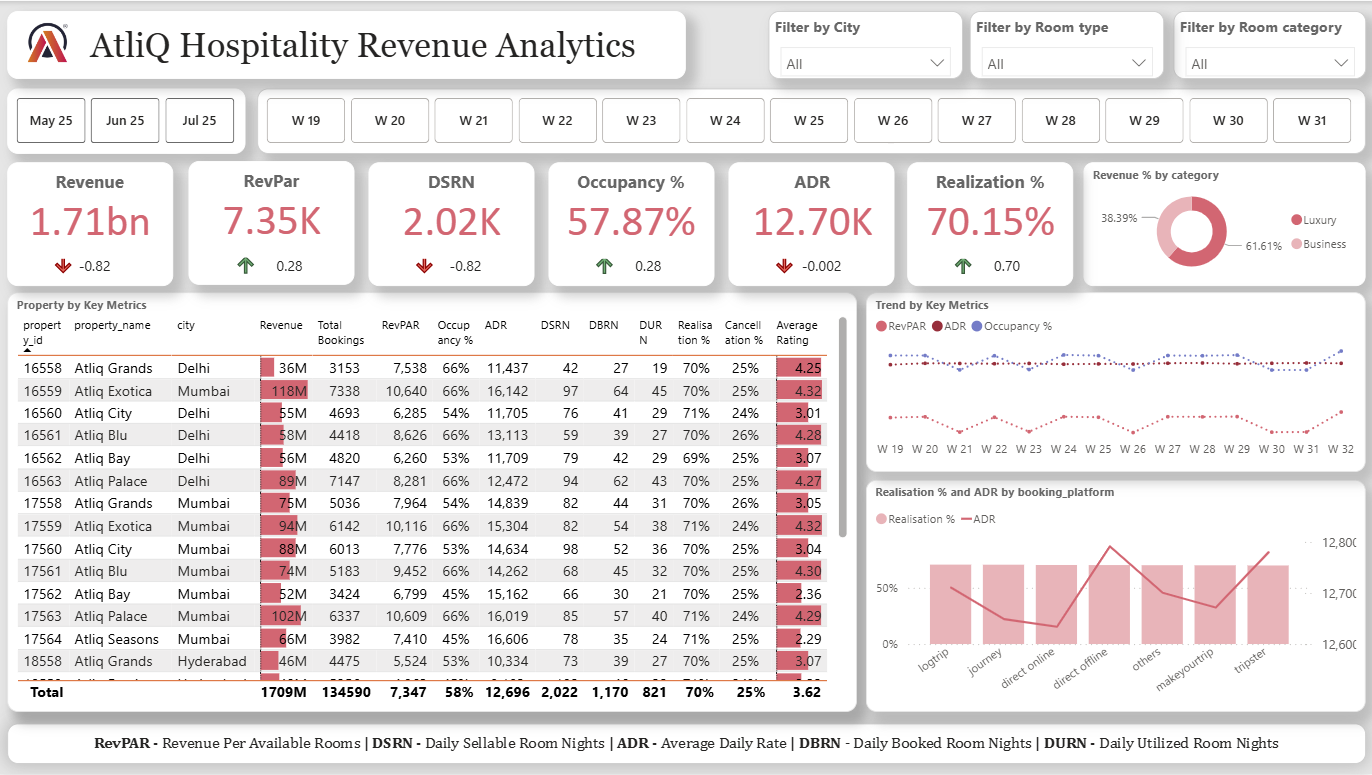

What the dashboard file says about the page in this screenshot:
{"tool":"powerbi","page":{"name":"Dashboard","canvas":[1280,720],"ordinal":0},"visuals":[{"type":"advancedSlicerVisual","fields":{"Values":["dim_date.mmm yy"]},"box":[10.7,81,221.6,60.5],"z":0},{"type":"advancedSlicerVisual","fields":{"Values":["dim_date.week no"]},"box":[243.1,81,1031,60.5],"z":1000},{"type":"slicer","title":"Filter by City","fields":{"Values":["dim_hotels.city"]},"box":[719.2,9.1,180.4,62.9],"z":2000},{"type":"slicer","title":"Filter by Room category","fields":{"Values":["fact_aggregated_bookings.room_category"]},"box":[1094.9,9.1,179.6,62.9],"z":3000},{"type":"slicer","title":"Filter by Room type","fields":{"Values":["dim_rooms.room_class"]},"box":[905.9,8.9,180.8,62.9],"z":4000},{"type":"textbox","box":[10.2,671.7,1264.1,37.4],"z":5000},{"type":"tableEx","title":"Property by Key Metrics","fields":{"Values":["dim_hotels.property_id","dim_hotels.property_name","dim_hotels.city","key_measures.Revenue","key_measures.Total Bookings","key_measures.RevPAR","key_measures.Occupancy %","key_measures.ADR","key_measures.DSRN","key_measures.DBRN","key_measures.DURN","key_measures.Realisation %"]},"box":[10.5,270.9,790.7,390.7],"z":6000},{"type":"donutChart","title":"Revenue % by category","fields":{"Category":["dim_hotels.category"],"Y":["key_measures.Revenue"]},"box":[1011.5,149.5,262.8,115.5],"z":7000},{"type":"lineClusteredColumnComboChart","fields":{"Y":["key_measures.Realisation %"],"Y2":["key_measures.ADR"],"Category":["fact_bookings.booking_platform"]},"box":[809.3,445.4,465.1,216.3],"z":8000},{"type":"lineChart","title":"Trend by Key Metrics","fields":{"Y":["key_measures.RevPAR","key_measures.ADR"],"Category":["dim_date.week no"],"Y2":["key_measures.Occupancy %"]},"box":[809.3,270.9,465.1,167.4],"z":9000},{"type":"textbox","box":[10.8,9.1,631.4,62.9],"z":10000},{"type":"image","box":[23.2,9.1,49.7,58.8],"z":11000},{"type":"textbox","box":[10.9,150,154.5,115.5],"z":12000},{"type":"tableEx","fields":{"Values":["key_measures.Revenue WoW change %"]},"box":[47.7,216.4,82.7,43.6],"z":13000},{"type":"card","title":"Revenue","fields":{"Values":["key_measures.Revenue"]},"box":[16.8,156,141.8,84.2],"z":14000},{"type":"textbox","box":[178.6,149.2,154.5,115.5],"z":15000},{"type":"tableEx","fields":{"Values":["key_measures.Revpar WoW change %"]},"box":[217.1,212.4,76.7,43.3],"z":16000},{"type":"card","title":"RevPar","fields":{"Values":["key_measures.RevPAR"]},"box":[184.4,155.1,142.7,84.2],"z":17000},{"type":"textbox","box":[347.1,150,154.5,115.5],"z":18000},{"type":"tableEx","fields":{"Values":["key_measures.DSRN WoW change %"]},"box":[383.9,216.4,82.7,43.6],"z":19000},{"type":"card","title":"DSRN","fields":{"Values":["key_measures.DSRN"]},"box":[352.8,156,142.7,84.2],"z":20000},{"type":"textbox","box":[514,150,154.5,115.5],"z":21000},{"type":"tableEx","fields":{"Values":["key_measures.Occupancy WoW change %"]},"box":[550.8,216.4,82.7,43.6],"z":22000},{"type":"card","title":"Occupancy %","fields":{"Values":["key_measures.Occupancy %"]},"box":[520.3,156,141.8,84.2],"z":23000},{"type":"textbox","box":[681.7,150,154.5,115.5],"z":24000},{"type":"tableEx","fields":{"Values":["key_measures.ADR WoW change %"]},"box":[718.5,216.4,82.7,43.6],"z":25000},{"type":"card","title":"ADR","fields":{"Values":["key_measures.ADR"]},"box":[687.9,156,141.8,84.2],"z":26000},{"type":"textbox","box":[847.8,150,154.5,115.5],"z":27000},{"type":"tableEx","fields":{"Values":["key_measures.Realisation %"]},"box":[884.5,216.4,111.8,43.6],"z":28000},{"type":"card","title":"Realization %","fields":{"Values":["key_measures.Realisation %"]},"box":[853.6,156,142.7,84.2],"z":29000}]}

Visuals, with their boxes in screenshot pixels (x1, y1, x2, y2), scaled from the page's 1280x720 canvas onto the 1372x775 screenshot:
advancedSlicerVisual - dim_date.mmm yy: {"left": 11, "top": 87, "right": 249, "bottom": 152}
advancedSlicerVisual - dim_date.week no: {"left": 261, "top": 87, "right": 1366, "bottom": 152}
"Filter by City" slicer: {"left": 771, "top": 10, "right": 964, "bottom": 78}
"Filter by Room category" slicer: {"left": 1174, "top": 10, "right": 1366, "bottom": 78}
"Filter by Room type" slicer: {"left": 971, "top": 10, "right": 1165, "bottom": 77}
textbox: {"left": 11, "top": 723, "right": 1366, "bottom": 763}
"Property by Key Metrics" tableEx: {"left": 11, "top": 292, "right": 859, "bottom": 712}
"Revenue % by category" donutChart: {"left": 1084, "top": 161, "right": 1366, "bottom": 285}
lineClusteredColumnComboChart - key_measures.Realisation % x key_measures.ADR: {"left": 867, "top": 479, "right": 1366, "bottom": 712}
"Trend by Key Metrics" lineChart: {"left": 867, "top": 292, "right": 1366, "bottom": 472}
textbox: {"left": 12, "top": 10, "right": 688, "bottom": 78}
image: {"left": 25, "top": 10, "right": 78, "bottom": 73}
textbox: {"left": 12, "top": 161, "right": 177, "bottom": 286}
tableEx - key_measures.Revenue WoW change %: {"left": 51, "top": 233, "right": 140, "bottom": 280}
"Revenue" card: {"left": 18, "top": 168, "right": 170, "bottom": 259}
textbox: {"left": 191, "top": 161, "right": 357, "bottom": 285}
tableEx - key_measures.Revpar WoW change %: {"left": 233, "top": 229, "right": 315, "bottom": 275}
"RevPar" card: {"left": 198, "top": 167, "right": 351, "bottom": 258}
textbox: {"left": 372, "top": 161, "right": 538, "bottom": 286}
tableEx - key_measures.DSRN WoW change %: {"left": 411, "top": 233, "right": 500, "bottom": 280}
"DSRN" card: {"left": 378, "top": 168, "right": 531, "bottom": 259}
textbox: {"left": 551, "top": 161, "right": 717, "bottom": 286}
tableEx - key_measures.Occupancy WoW change %: {"left": 590, "top": 233, "right": 679, "bottom": 280}
"Occupancy %" card: {"left": 558, "top": 168, "right": 710, "bottom": 259}
textbox: {"left": 731, "top": 161, "right": 896, "bottom": 286}
tableEx - key_measures.ADR WoW change %: {"left": 770, "top": 233, "right": 859, "bottom": 280}
"ADR" card: {"left": 737, "top": 168, "right": 889, "bottom": 259}
textbox: {"left": 909, "top": 161, "right": 1074, "bottom": 286}
tableEx - key_measures.Realisation %: {"left": 948, "top": 233, "right": 1068, "bottom": 280}
"Realization %" card: {"left": 915, "top": 168, "right": 1068, "bottom": 259}
